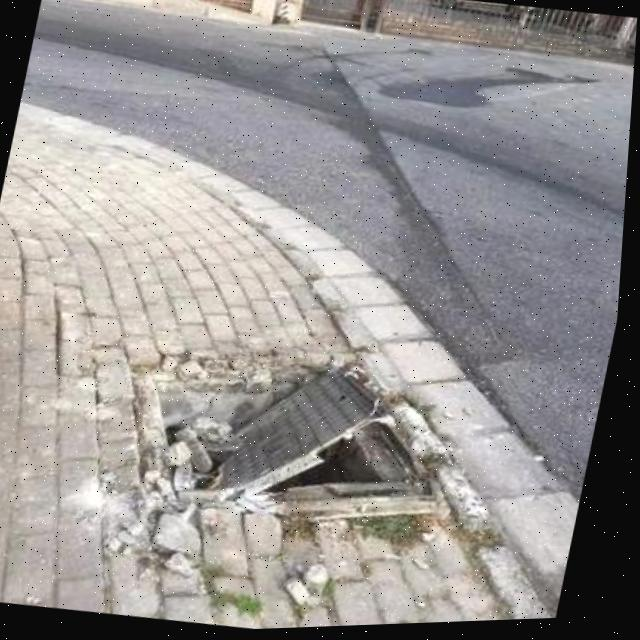manhole: (96, 330, 478, 550)
